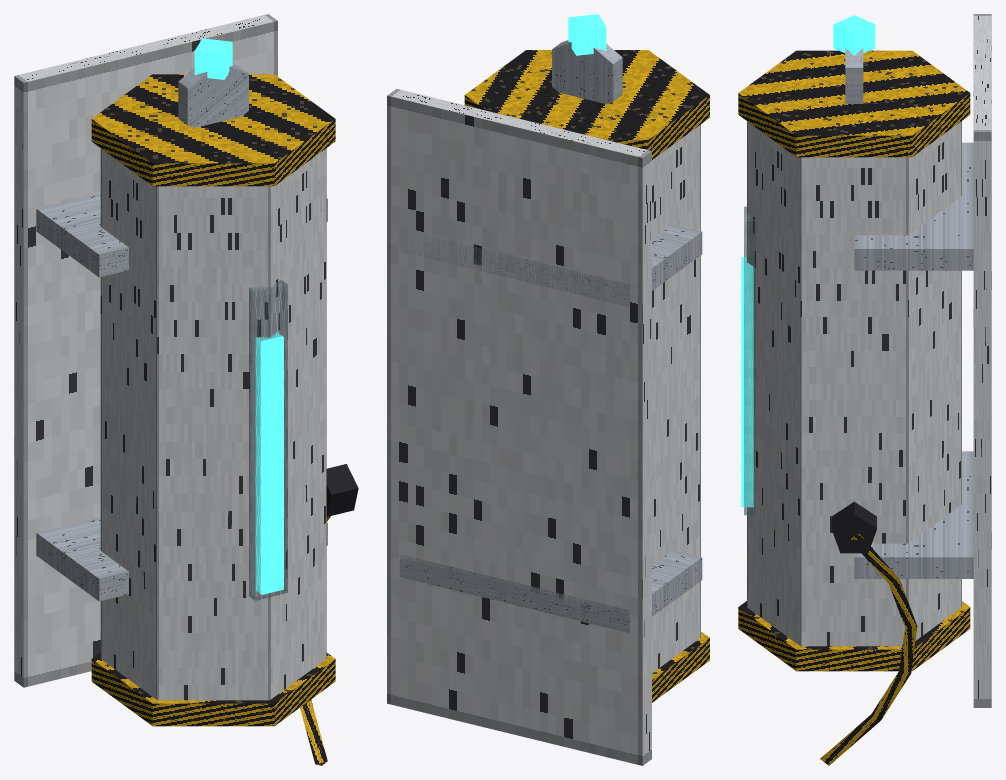
File: oxypod_medbay_clean.glb
The picture shows the model from 3 angles, left to right: view 1: azimuth 30°, elevation 25°; view 2: azimuth 150°, elevation 25°; view 3: azimuth 270°, elevation 25°; orthographic projection. The views are drawn at different scales.
Visible parts, largest first — view 1: oxypod_medbay_clean; view 2: oxypod_medbay_clean; view 3: oxypod_medbay_clean.
Part boxes in pixels (x1,y1,x2,y2): oxypod_medbay_clean: [14, 14, 358, 765]; oxypod_medbay_clean: [387, 14, 709, 765]; oxypod_medbay_clean: [738, 14, 991, 765].
Bounding box in the file's own units: 0.4809 × 1.29 × 0.4244.
Materials: 9 (9 with a texture image).
